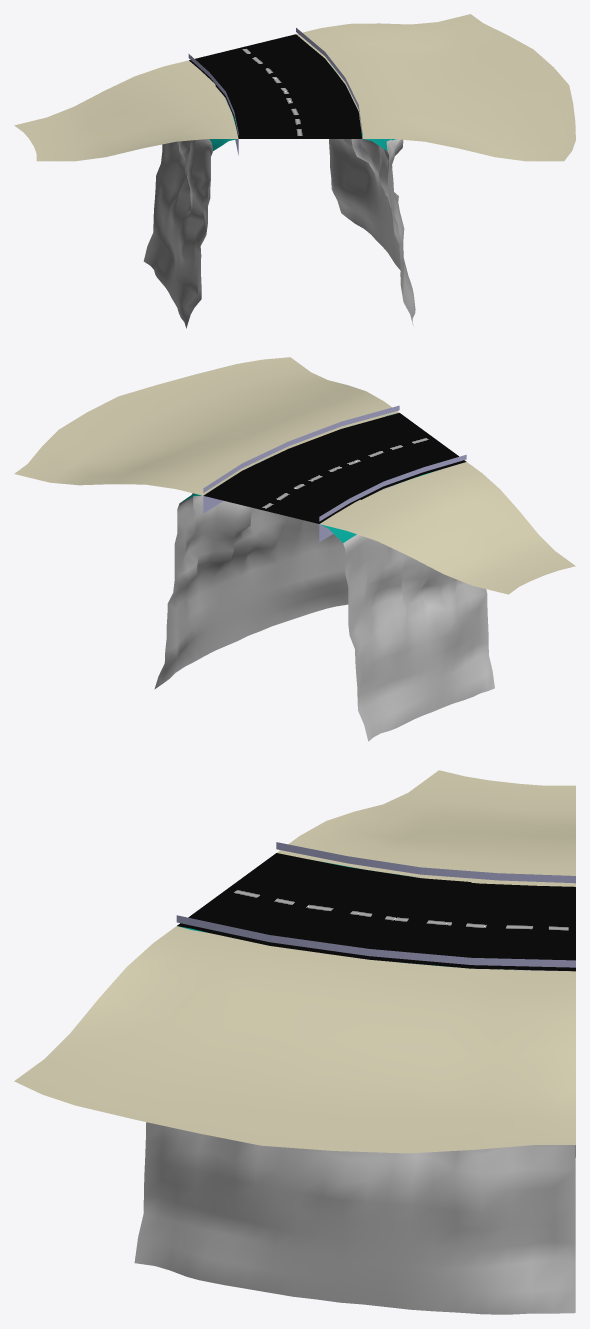
3 renders of one model, top to bottom at view 1: azimuth 30°, elevation 25°; view 2: azimuth 150°, elevation 25°; view 3: azimuth 270°, elevation 25°, orthographic. The views are drawn at different scales.
Parts seen in each view (by area): view 1: sand_2, sand_1, Mesh, cliff_1, cliff_2; view 2: sand_2, cliff_1, cliff_2, sand_1, Mesh, guardRail_2, guardRail_1; view 3: sand_2, cliff_2, Mesh, sand_1, guardRail_2, guardRail_1.
Part boxes in pixels (x1,y1,x2,y2): sand_2: [296, 14, 575, 161]; sand_1: [14, 60, 238, 161]; Mesh: [189, 34, 362, 138]; cliff_1: [143, 110, 236, 328]; cliff_2: [329, 64, 415, 325]; sand_2: [14, 357, 399, 495]; cliff_1: [320, 471, 494, 741]; cliff_2: [154, 414, 393, 689]; sand_1: [320, 462, 575, 594]; Mesh: [203, 413, 466, 523]; guardRail_2: [203, 405, 399, 492]; guardRail_1: [319, 454, 466, 521]; sand_2: [14, 926, 575, 1153]; cliff_2: [134, 926, 575, 1314]; Mesh: [177, 853, 575, 971]; sand_1: [277, 770, 575, 886]; guardRail_2: [176, 915, 575, 967]; guardRail_1: [276, 842, 575, 883].
Bounding box in the file's own units: 45.42 × 17.58 × 28.14.
